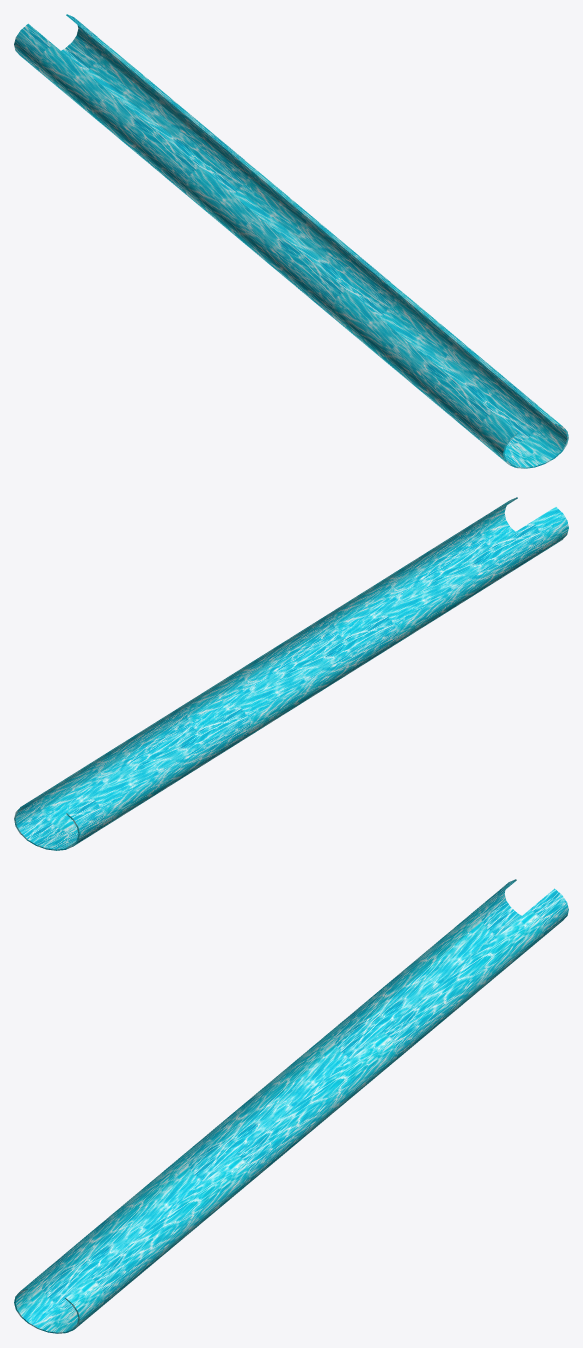
The model's file is tunel.obj.
3 renders of one model, top to bottom at view 1: azimuth 30°, elevation 25°; view 2: azimuth 150°, elevation 25°; view 3: azimuth 330°, elevation 25°, orthographic.
Visible parts, largest first — view 1: polySurface30; view 2: polySurface30; view 3: polySurface30.
Part boxes in pixels (x1,y1,x2,y2): polySurface30: (14,14,568,468); polySurface30: (14,497,568,850); polySurface30: (14,879,568,1333).
Bounding box in the file's own units: 6.3 × 8.35 × 81.02.
Materials: 1 (1 with a texture image).
